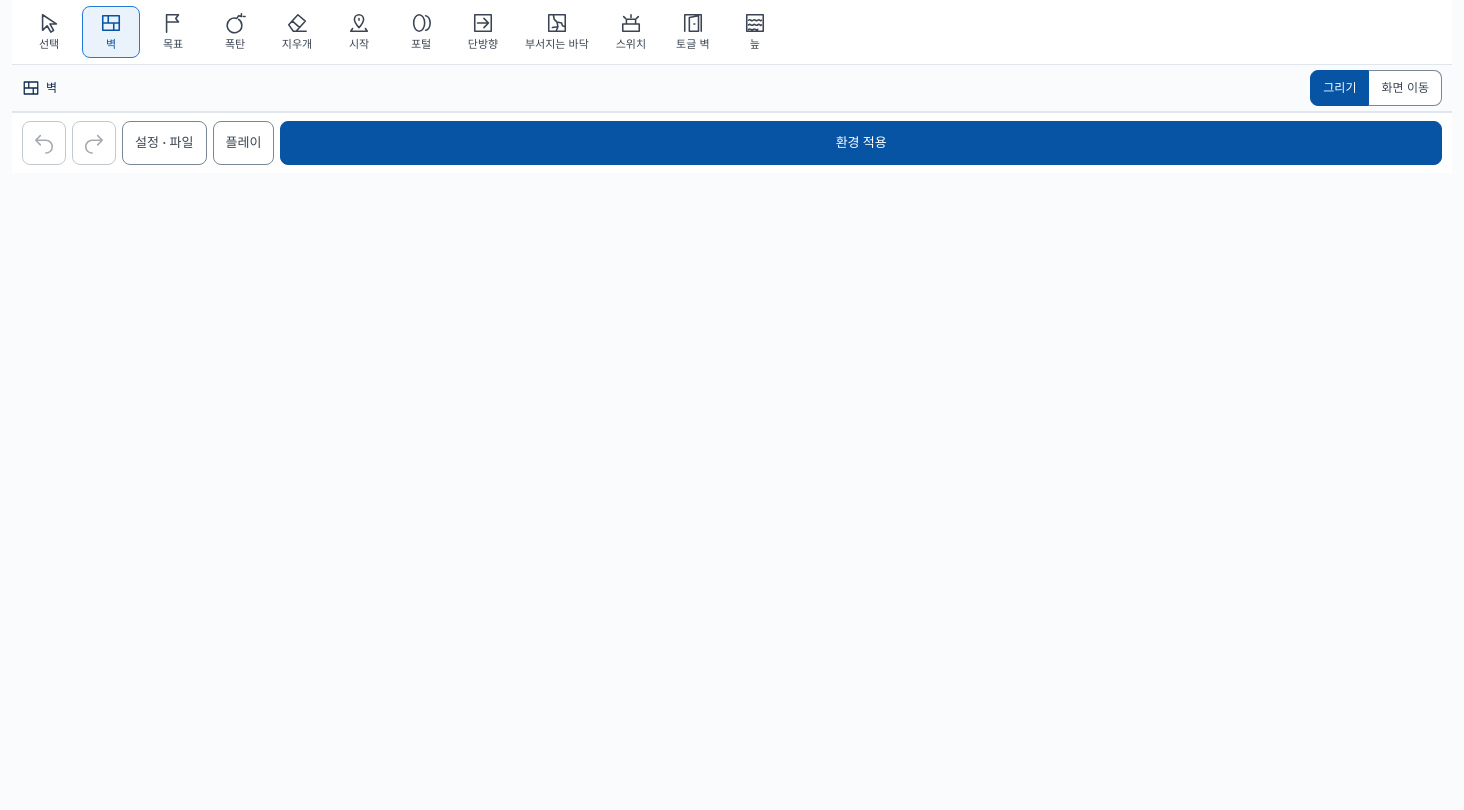
phone Settings · Files sheet › Element tab explains an empty selection and can switch to the Select tool
The image size is (1464, 810).
Click the button with test id "properties-toggle": (164, 143) [122, 121, 206, 165]
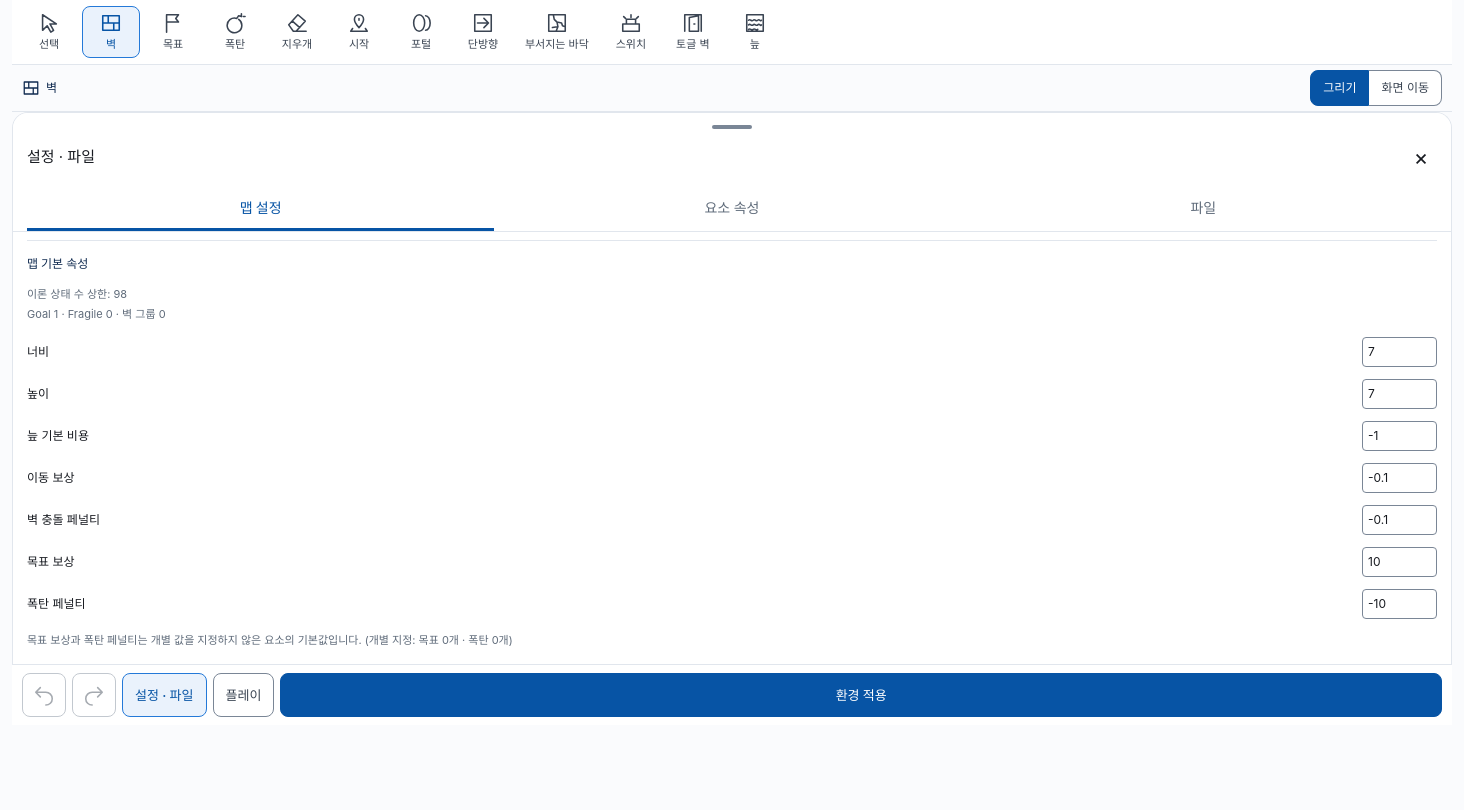
Click the tab with test id "sheet-tab-element": (732, 209) [498, 187, 966, 231]
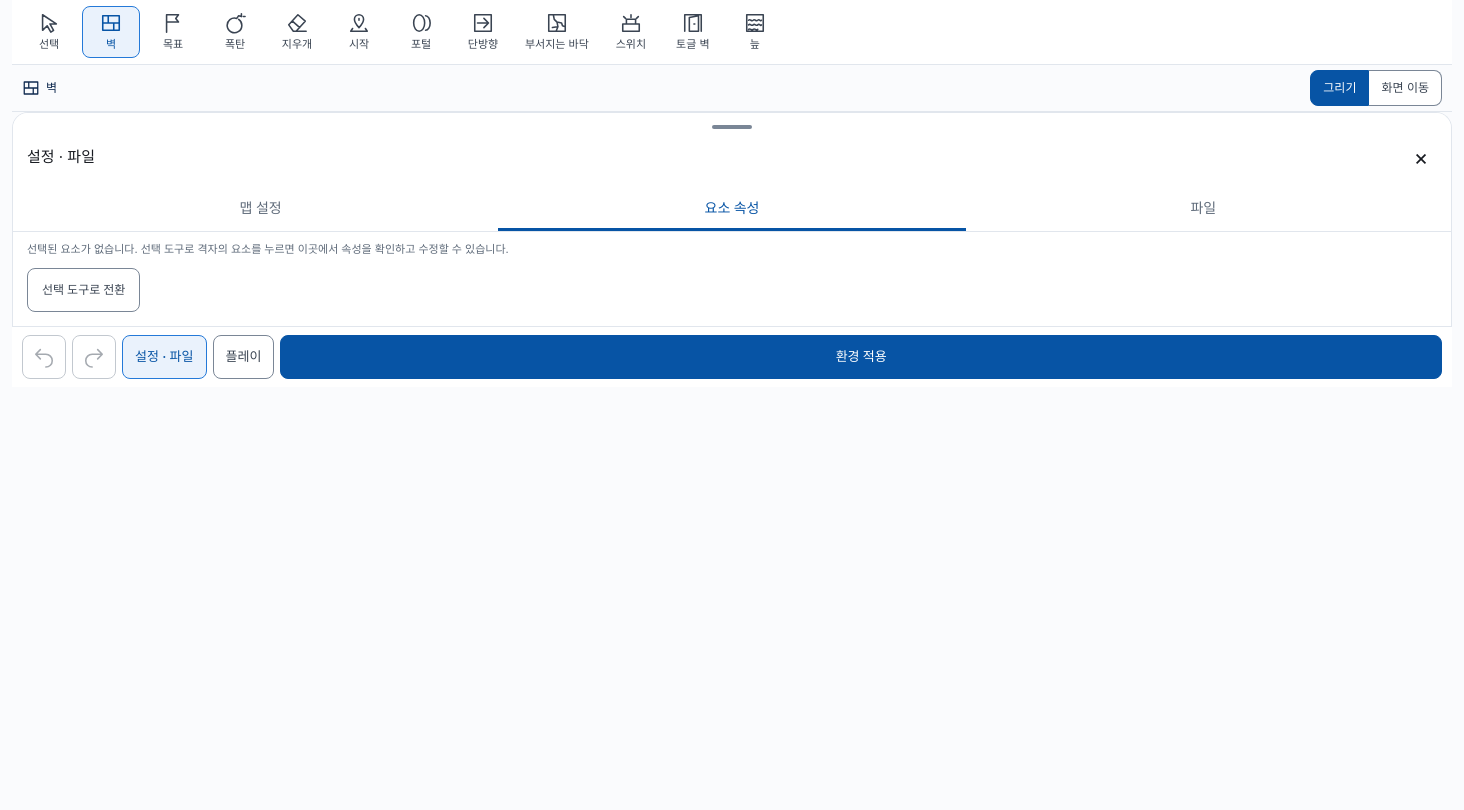
Result: the element with test id "element-tab-empty" shows "선택된 요소가 없습니다" at [27, 242, 509, 256]
Click the button with test id "element-tab-select-tool": (84, 290) [27, 268, 140, 312]
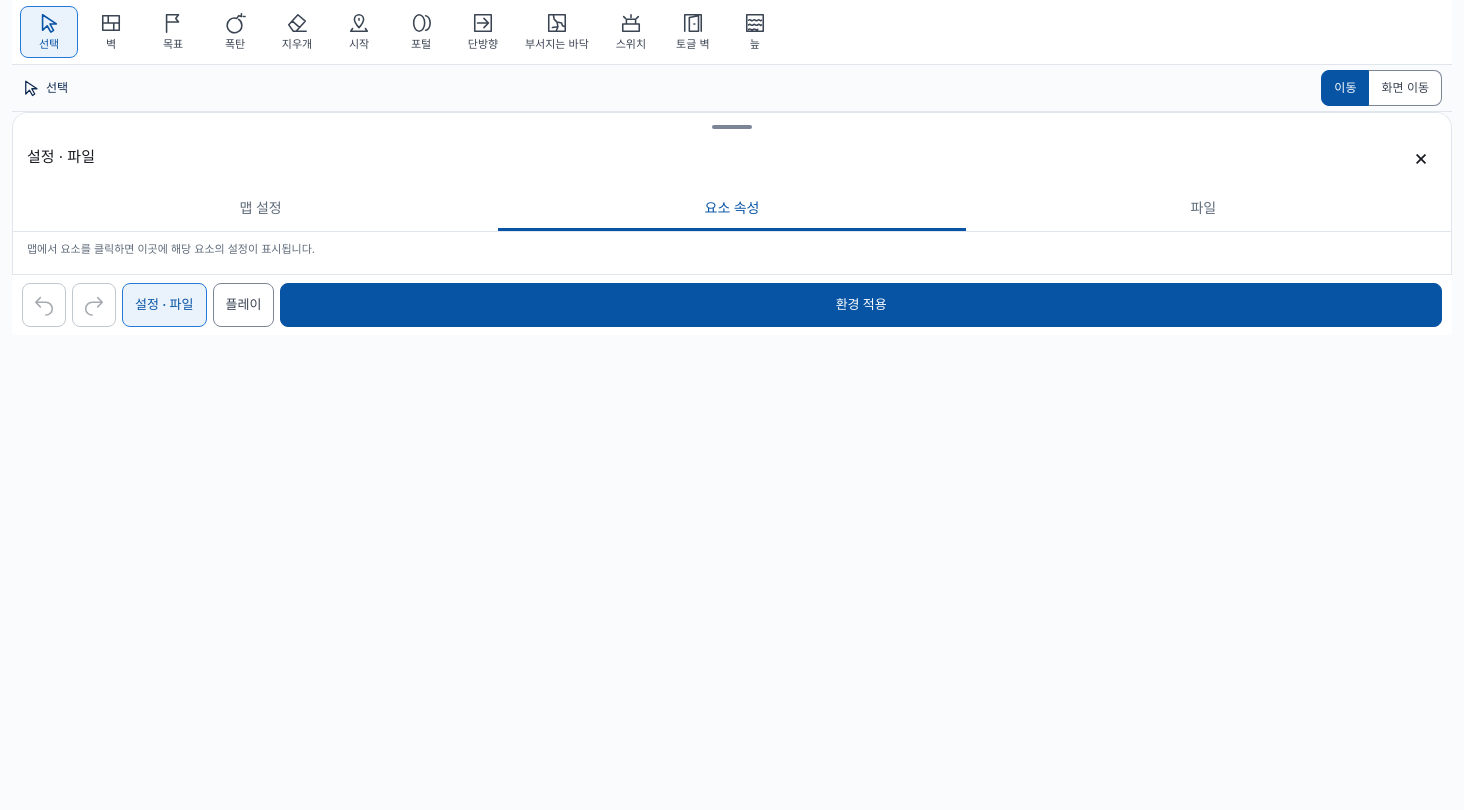
Result: the element with test id "element-tab-empty" is gone
Result: the text "맵에서 요소를 클릭하면 이곳에 해당 요소의 설정이 표시됩니다." is shown at [27, 242, 315, 256]
